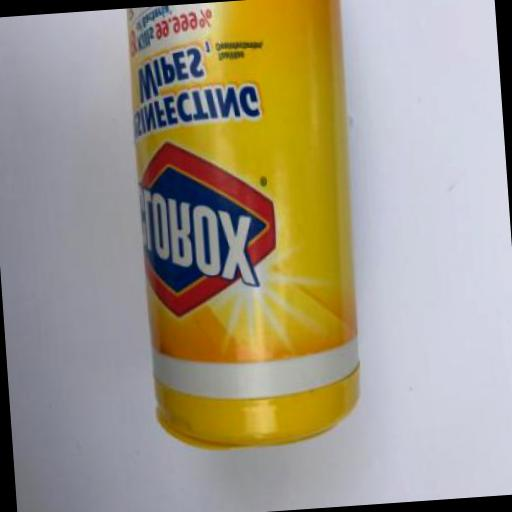plastic: (128, 0, 367, 454)
